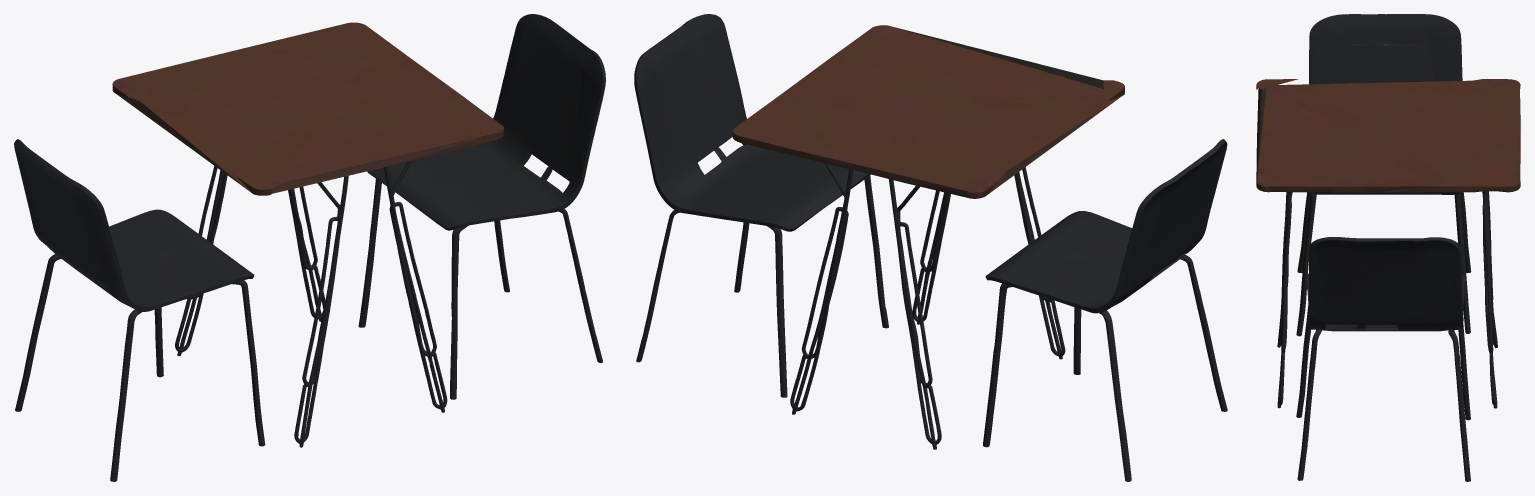
The model's file is table.glb.
The picture shows the model from 3 angles, left to right: view 1: azimuth 30°, elevation 25°; view 2: azimuth 150°, elevation 25°; view 3: azimuth 270°, elevation 25°; orthographic projection. The views are drawn at different scales.
Bounding box in the file's own units: 1.9 × 0.983 × 0.9387.
1 material, 1 textured.
